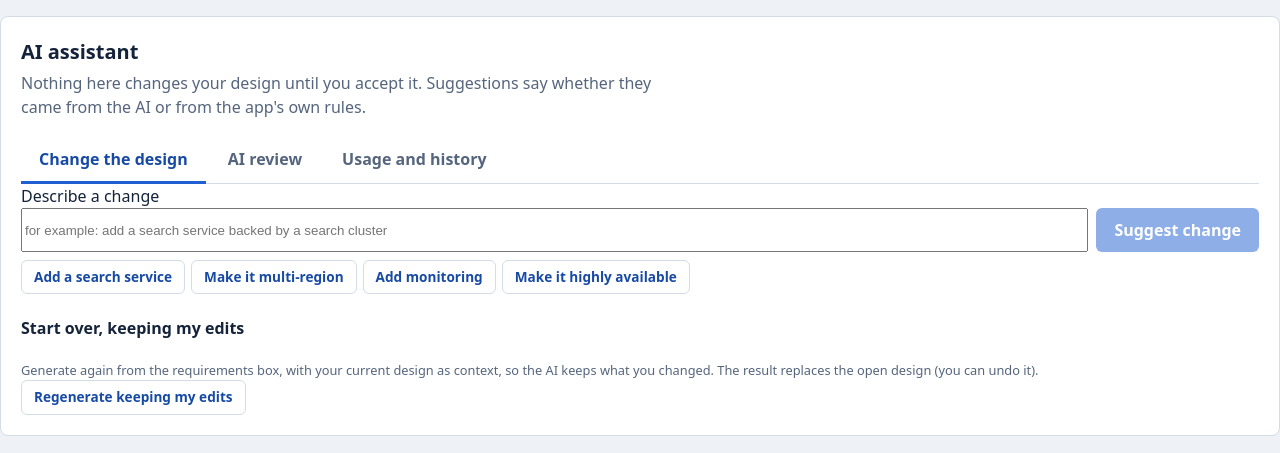
Scenario: AI assistant: change the design › fills the box from an example
Click the button "Add monitoring" at (429, 277), box left=363, top=260, right=496, bottom=294
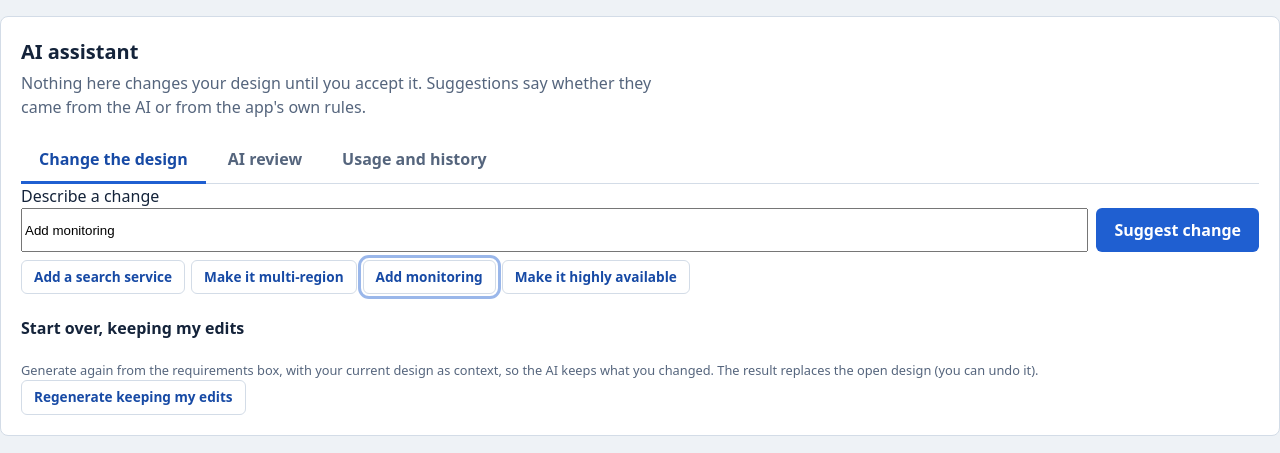
Result: the field labelled "Describe a change" holds "Add monitoring" at left=21, top=208, right=1088, bottom=252
